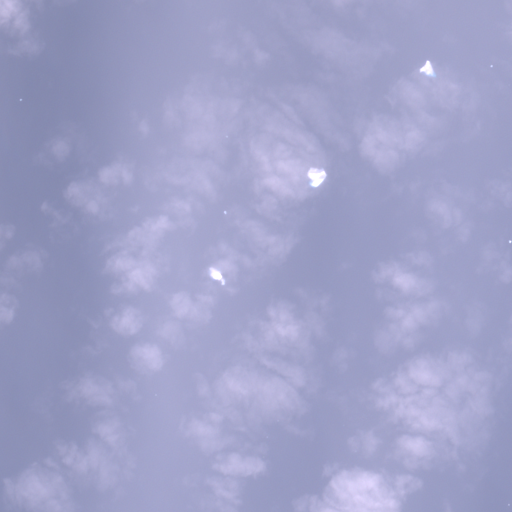Iceberg: (308, 168, 326, 186), (209, 267, 224, 284), (419, 60, 435, 75), (224, 211, 226, 213), (509, 240, 511, 242), (490, 65, 492, 66), (20, 99, 21, 100)
